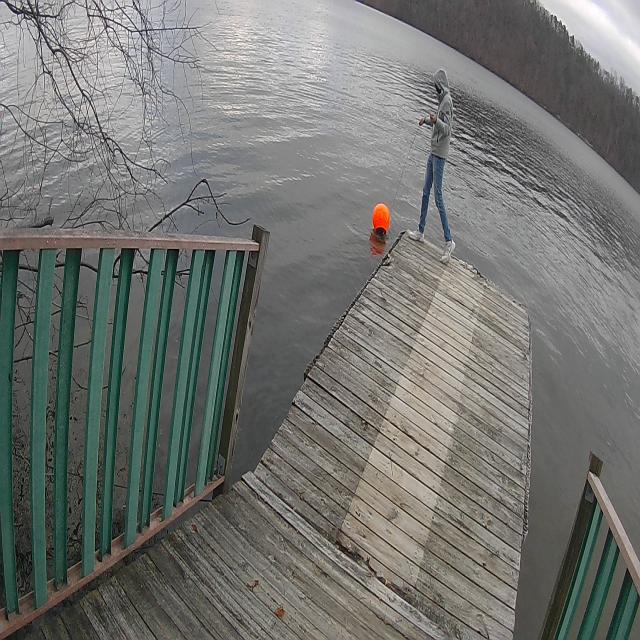Buoy: (369, 192, 392, 246)
